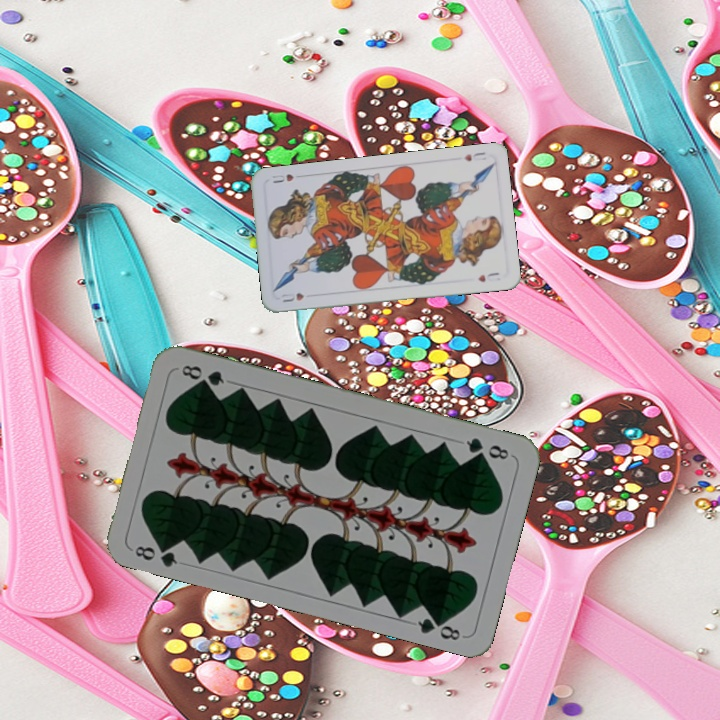G8: (131, 538, 180, 570), (462, 433, 512, 462)
HU: (277, 289, 307, 305), (460, 148, 488, 164)
